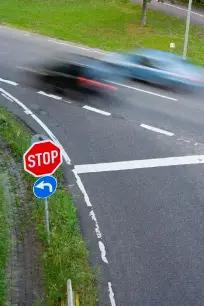Stop: (25, 143, 62, 176)
